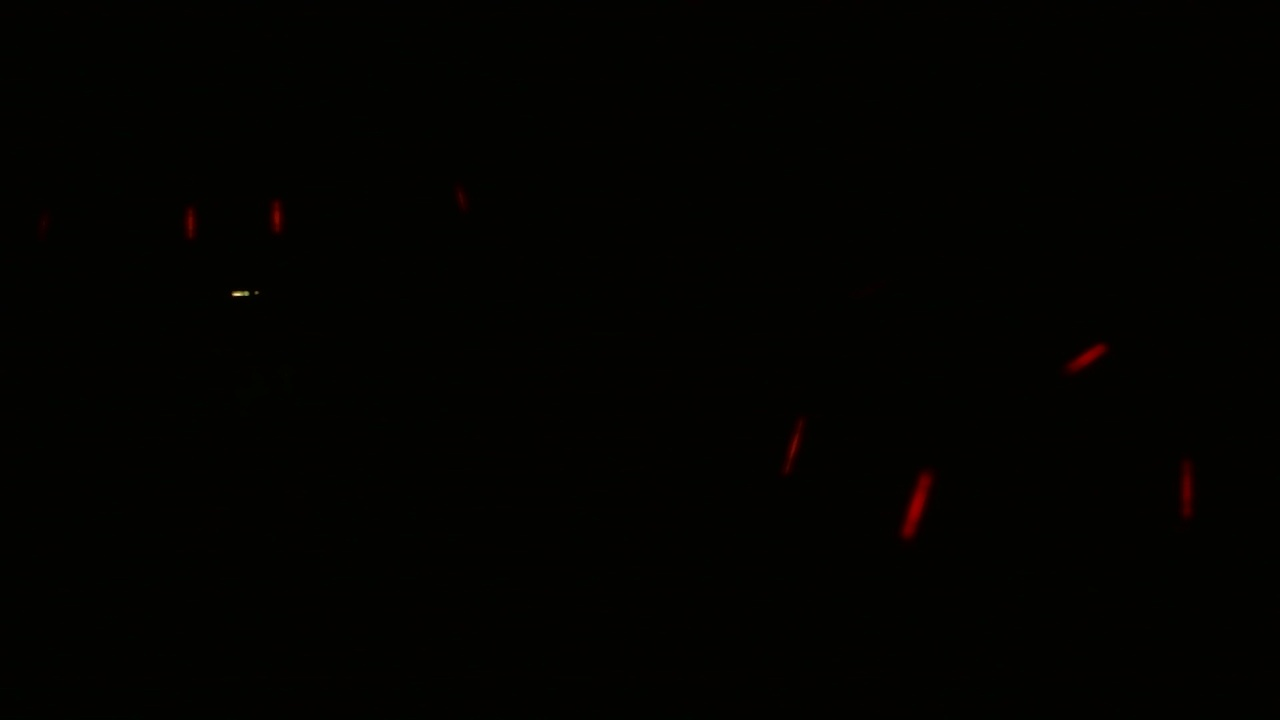pair1: (777, 414, 933, 546), (181, 193, 285, 248)
